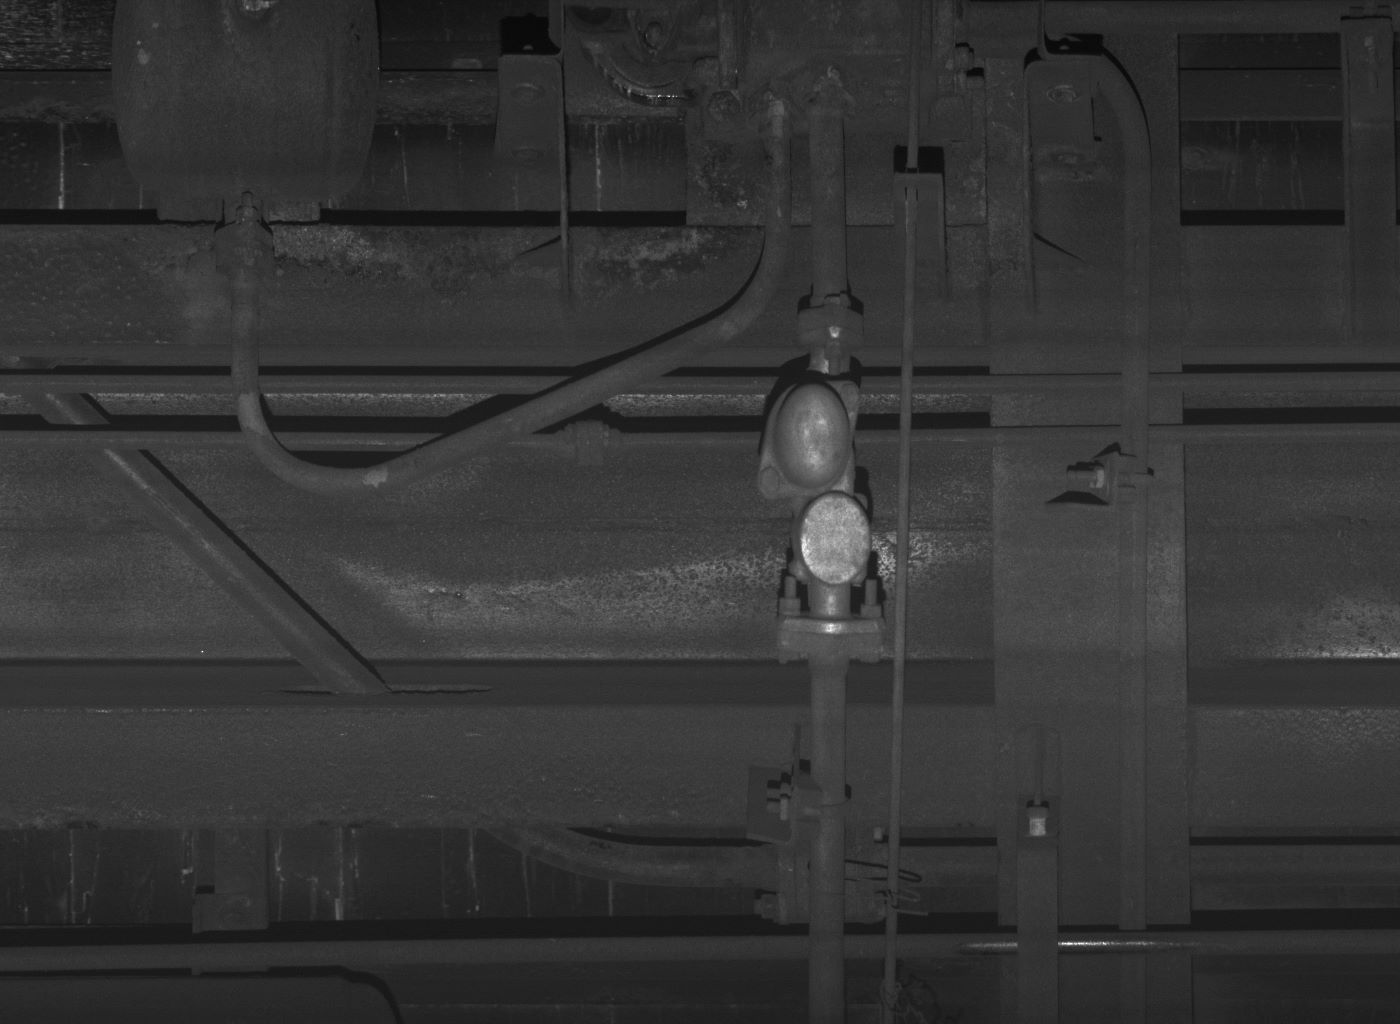normal: (1016, 726, 1058, 1023), (788, 491, 871, 587)
